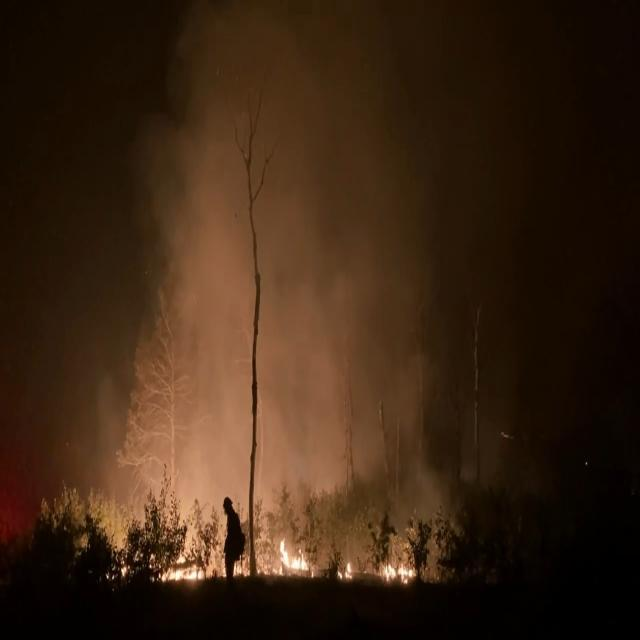Fire: (150, 528, 420, 588)
